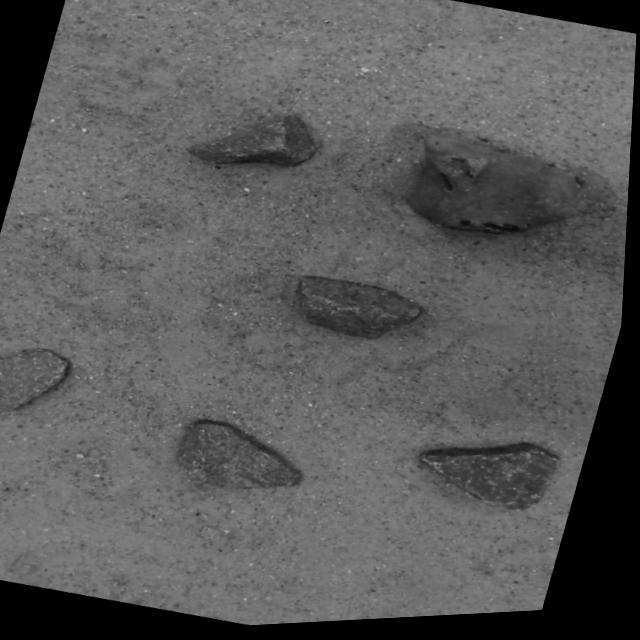rock: (410, 133, 583, 238), (426, 448, 563, 515), (184, 424, 304, 490), (302, 279, 423, 342), (188, 116, 316, 167), (0, 349, 71, 409)
